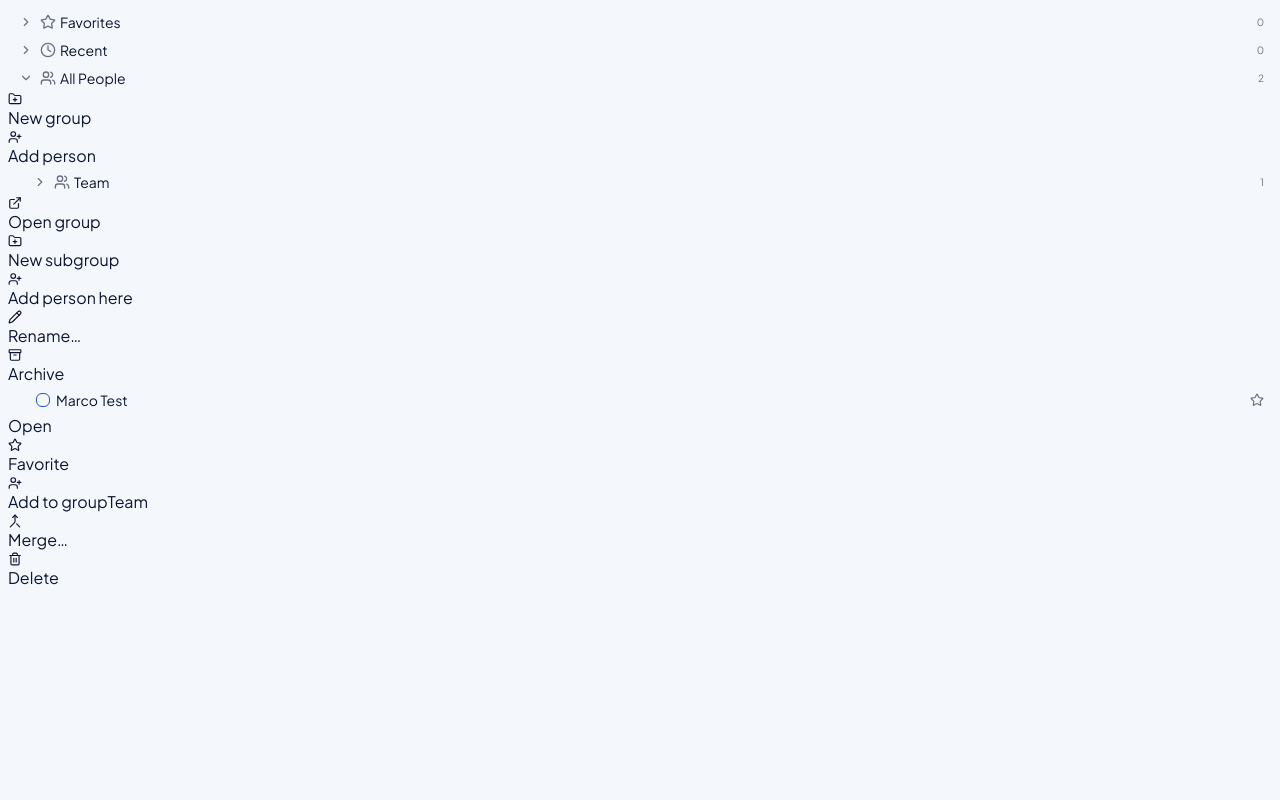
Scenario: PeopleTree — bulk-select checkbox clicks (regression: checkbox click navigated away) › checkbox click in the tree selects the person, prevents the row anchor's navigation, and shows the bulk bar
Click the checkbox named "Select Marco Test". click: (43, 400)
box: [36,393,50,407]
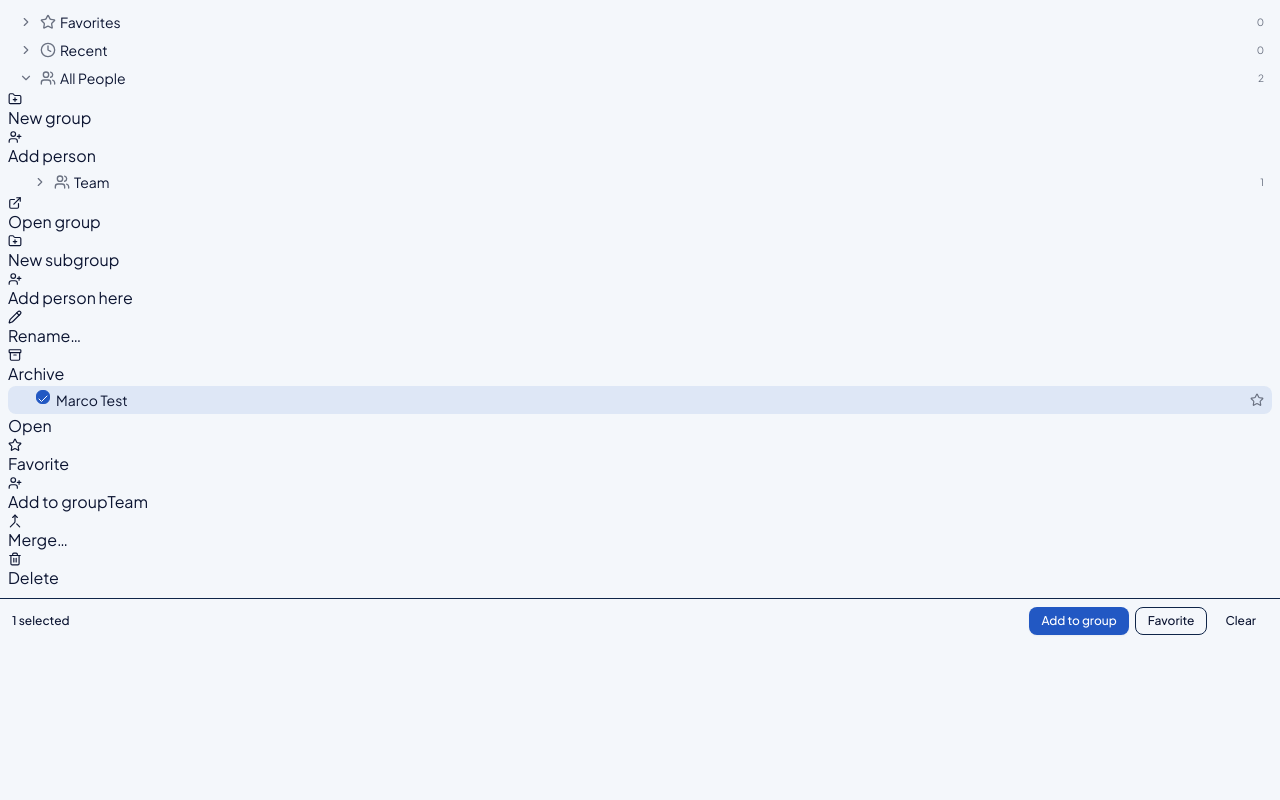
Now the text "1 selected" is shown, box [12,613,70,629]
